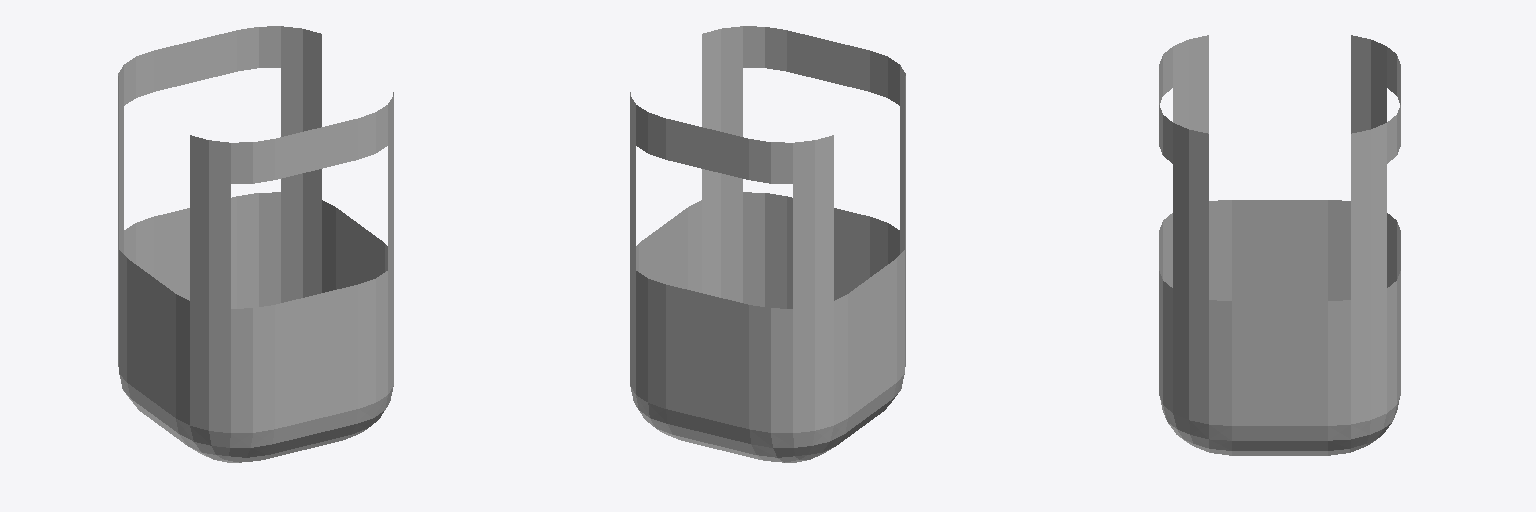
File: bag3_27.obj
The picture shows the model from 3 angles: view 1: azimuth 30°, elevation 25°; view 2: azimuth 150°, elevation 25°; view 3: azimuth 270°, elevation 25°; orthographic projection.
Visible parts, largest first — view 1: Cube-0-1.090_Cube.205; view 2: Cube-0-1.090_Cube.205; view 3: Cube-0-1.090_Cube.205.
Boxes of the visible parts, x1=… form: Cube-0-1.090_Cube.205: x1=118, y1=26, x2=393, y2=462; Cube-0-1.090_Cube.205: x1=630, y1=26, x2=905, y2=462; Cube-0-1.090_Cube.205: x1=1159, y1=35, x2=1400, y2=455.
Size of the model in its own units: 2 by 3.14 by 2.